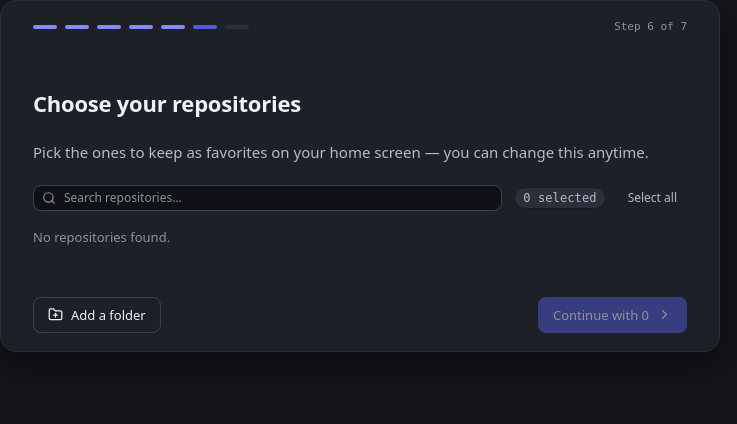
Test case: ReposPickStep › 'Add a folder' picks a folder and pins it
Click the button "Add a folder" at (97, 315), box left=33, top=297, right=161, bottom=333
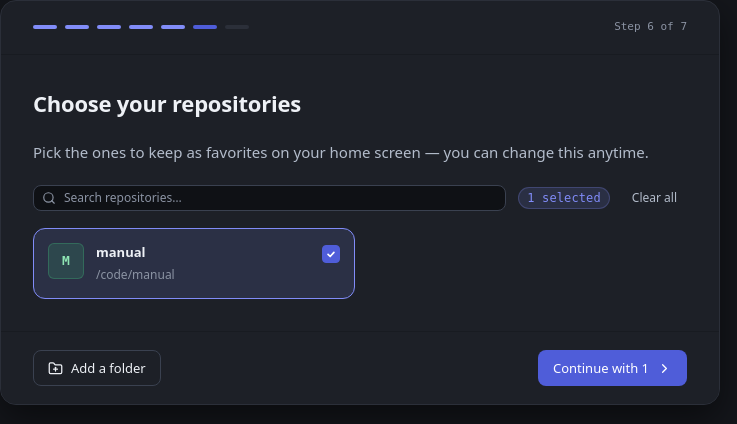
Now the text "manual" is shown, box left=96, top=243, right=146, bottom=261
